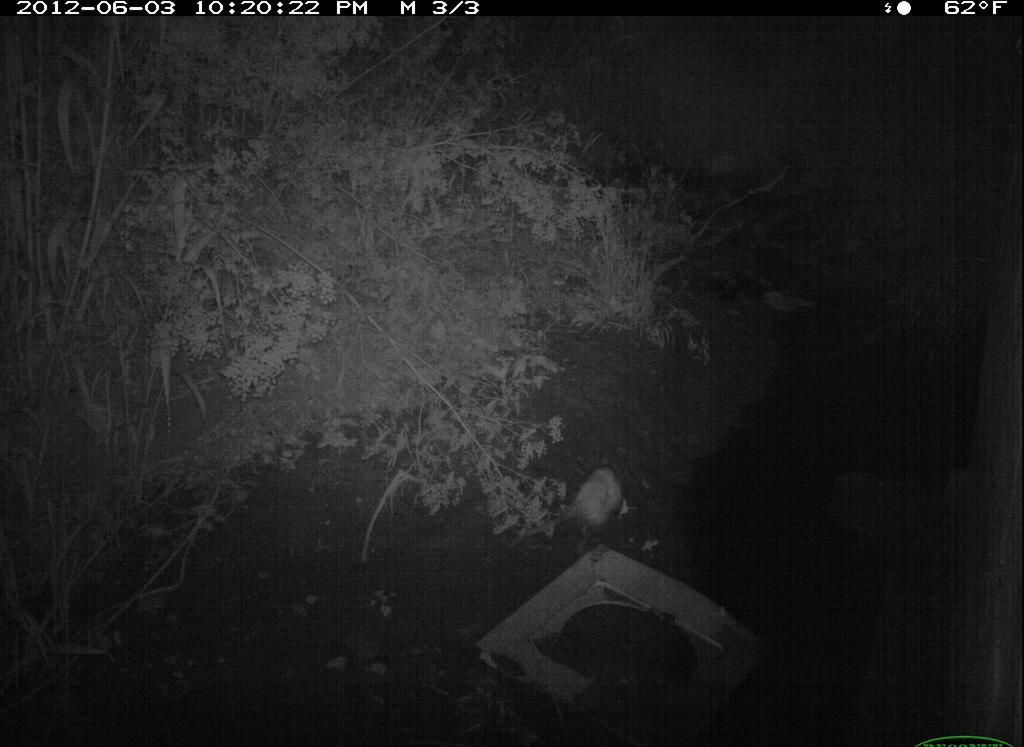opossum: (498, 461, 635, 560)
